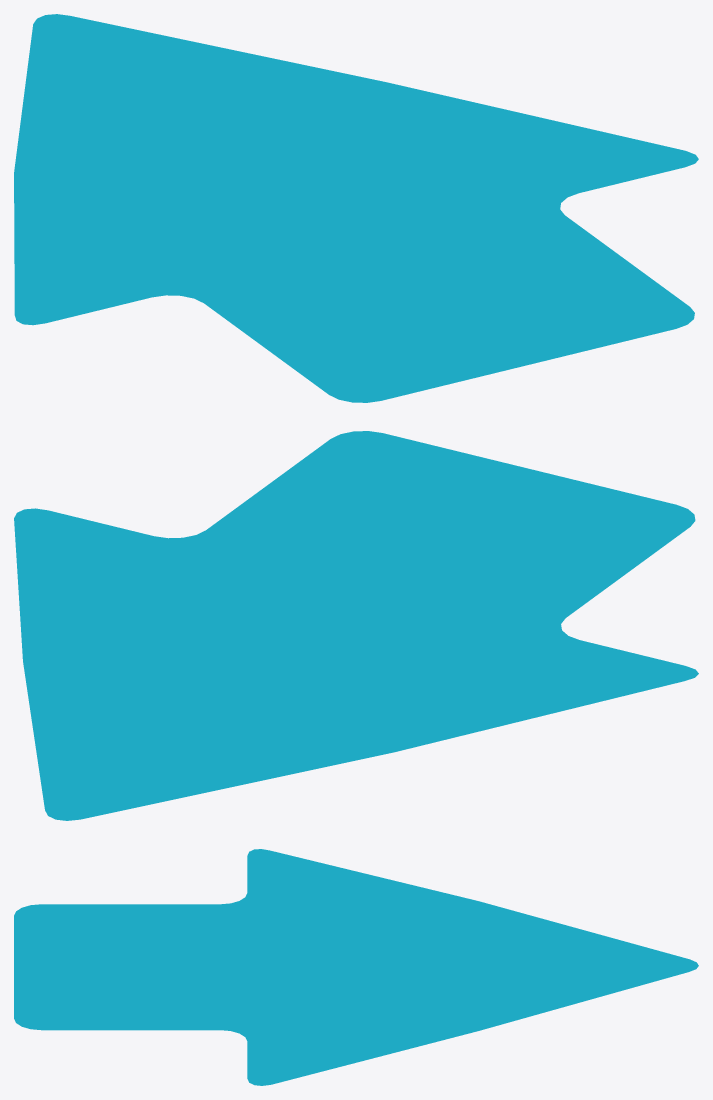
File: arrow.fbx
3 views of the same model, one above another, from view 1: azimuth 30°, elevation 25°; view 2: azimuth 150°, elevation 25°; view 3: azimuth 270°, elevation 25° (orthographic). The views are drawn at different scales.
Visible parts, largest first — view 1: Cube.003; view 2: Cube.003; view 3: Cube.003.
Boxes of the visible parts, x1,y1,x2,y2 form: Cube.003: (14, 14, 698, 402); Cube.003: (14, 431, 698, 820); Cube.003: (14, 849, 698, 1085).
Size of the model in its own units: 309 by 6.8e-05 by 378.
